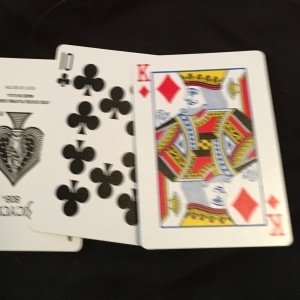card: (131, 49, 294, 251), (36, 43, 139, 247)
